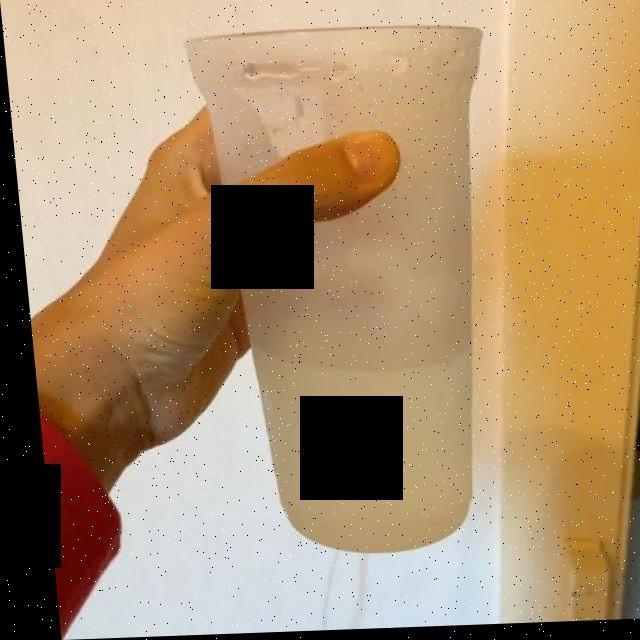drink: (246, 318, 475, 544)
